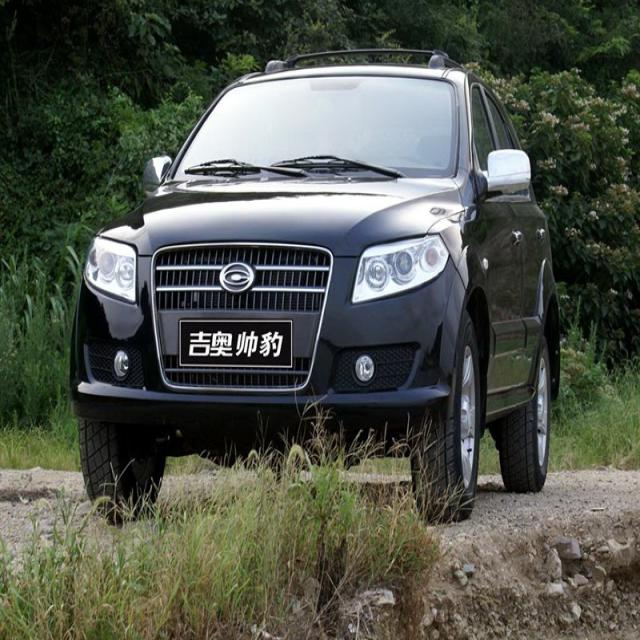front_bumper: (67, 277, 466, 414)
front_glass: (158, 63, 466, 194)
front_left_side_light: (344, 224, 455, 310)
front_left_side_mirror: (478, 146, 540, 204)
front_right_side_light: (77, 230, 146, 307)
front_right_side_mirror: (131, 152, 181, 206)
wheel: (412, 297, 480, 520), (77, 402, 173, 520), (499, 322, 553, 488)
